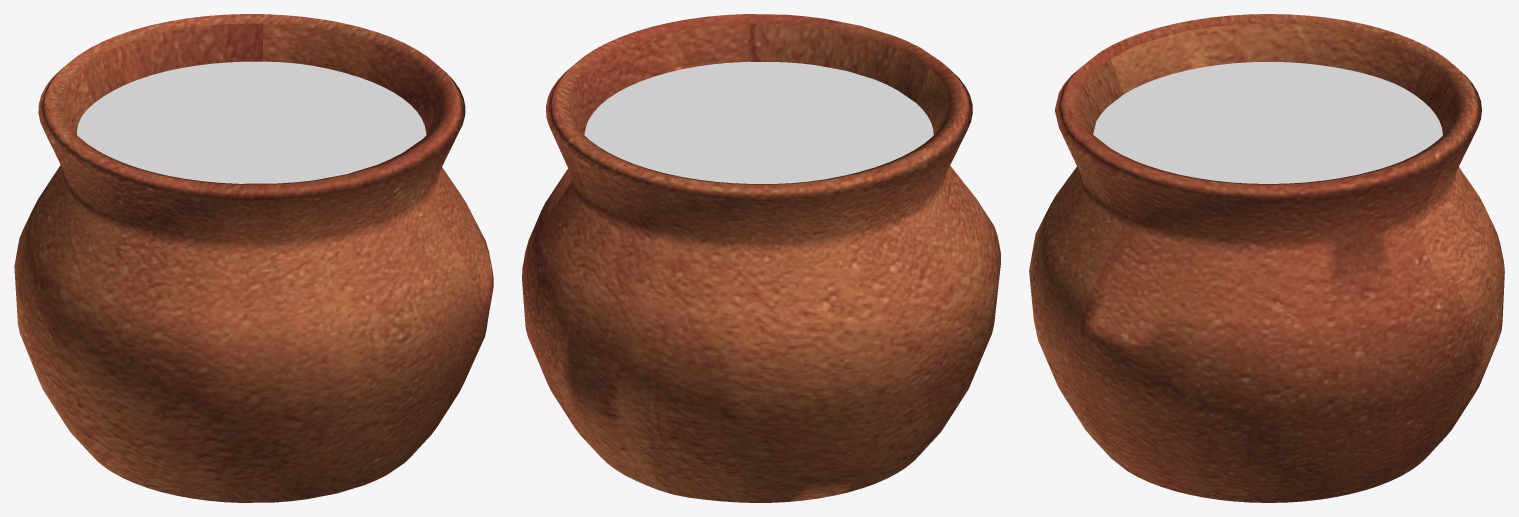
File: curd1.fbx
3 views of the same model, side by side, from view 1: azimuth 30°, elevation 25°; view 2: azimuth 150°, elevation 25°; view 3: azimuth 270°, elevation 25° (orthographic).
Visible parts, largest first — view 1: polySurface3, polySurface4; view 2: polySurface3, polySurface4; view 3: polySurface3, polySurface4.
Part boxes in pixels (<box>): polySurface3: <box>14,14,493,502</box>; polySurface4: <box>77,61,426,183</box>; polySurface3: <box>522,14,1000,502</box>; polySurface4: <box>584,61,933,183</box>; polySurface3: <box>1029,14,1504,502</box>; polySurface4: <box>1093,62,1442,183</box>.
Bounding box in the file's own units: 18.39 × 14.58 × 18.3.
Materials: 2 (1 with a texture image).
